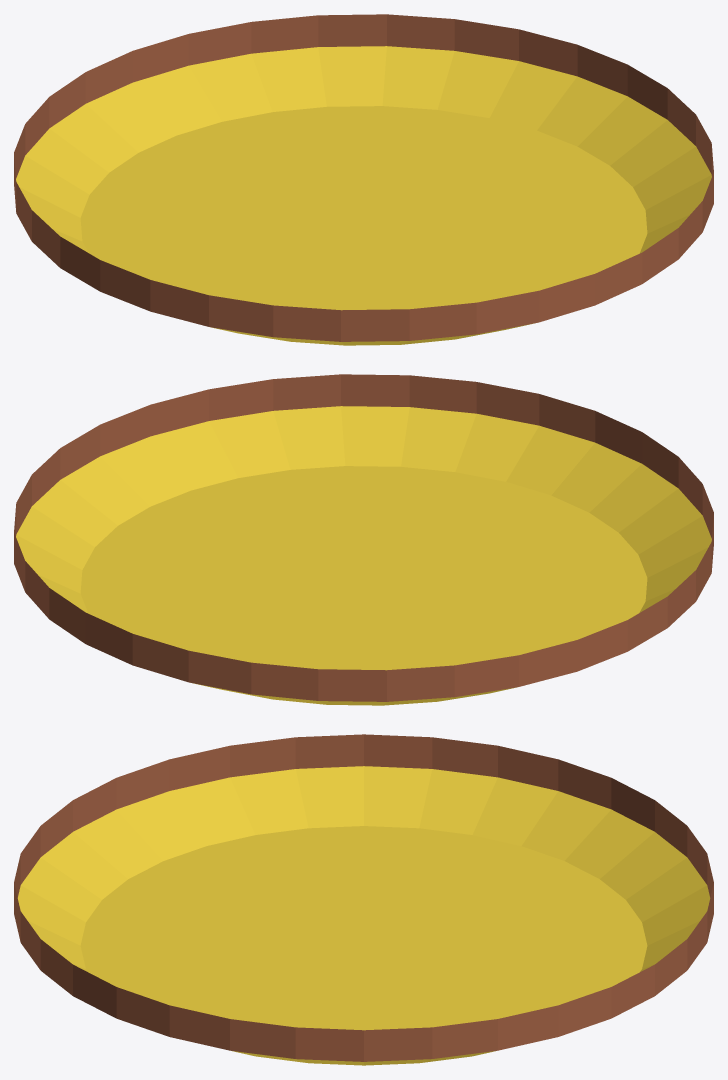
File: Light_point.fbx
3 views of the same model, one above another, from view 1: azimuth 30°, elevation 25°; view 2: azimuth 150°, elevation 25°; view 3: azimuth 270°, elevation 25° (orthographic).
Visible parts, largest first — view 1: Cylinder; view 2: Cylinder; view 3: Cylinder.
Part boxes in pixels (x1,y1,x2,y2): Cylinder: (14,14,713,345); Cylinder: (14,374,713,705); Cylinder: (14,734,713,1065).
Size of the model in its own units: 200 by 20 by 200.
